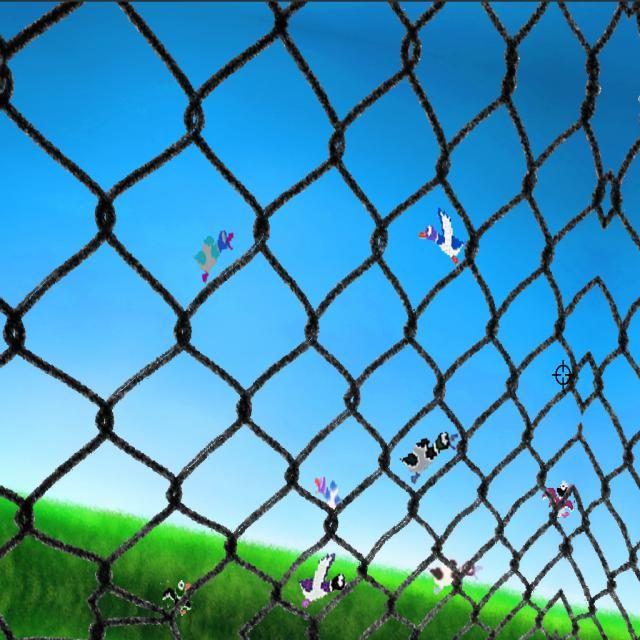duck: (399, 426, 464, 484), (418, 202, 471, 272), (296, 546, 351, 611), (189, 222, 238, 291), (423, 550, 485, 598), (542, 474, 578, 522), (313, 471, 350, 514)
falling_duck: (162, 574, 197, 616)
